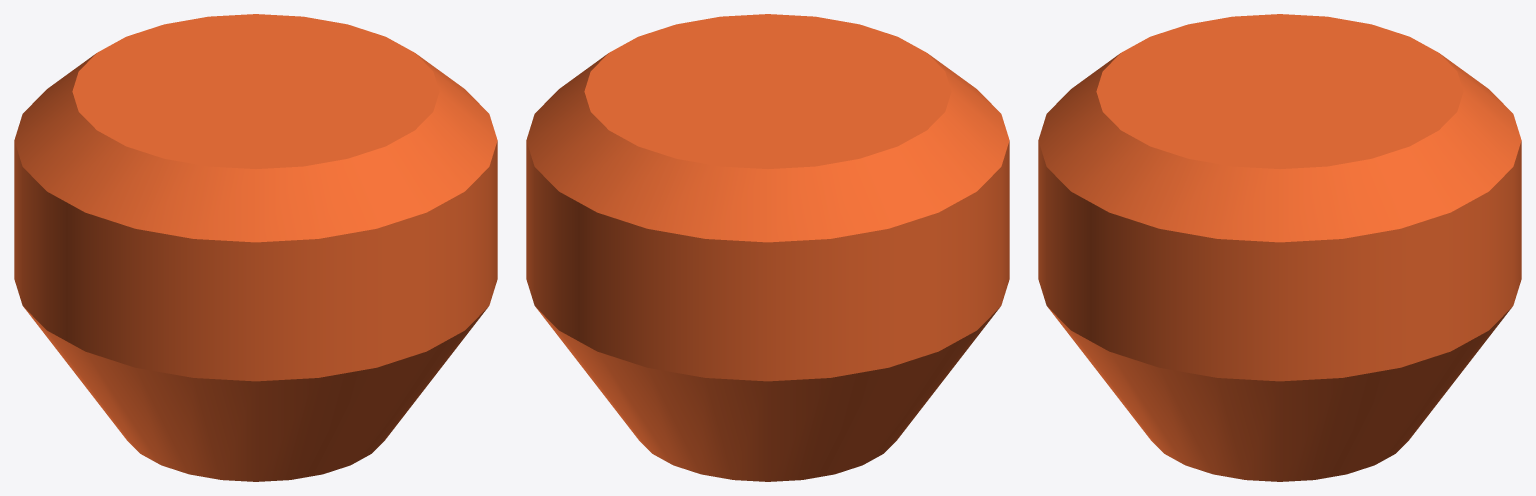
The model's file is Dron_Base.fbx.
The picture shows the model from 3 angles, left to right: view 1: azimuth 30°, elevation 25°; view 2: azimuth 150°, elevation 25°; view 3: azimuth 270°, elevation 25°; orthographic projection.
Parts seen in each view (by area): view 1: Base; view 2: Base; view 3: Base.
Part boxes in pixels (x1=…): Base: x1=14, y1=14, x2=497, y2=481; Base: x1=526, y1=14, x2=1009, y2=481; Base: x1=1038, y1=14, x2=1521, y2=481.
Size of the model in its own units: 189 by 144 by 189.
